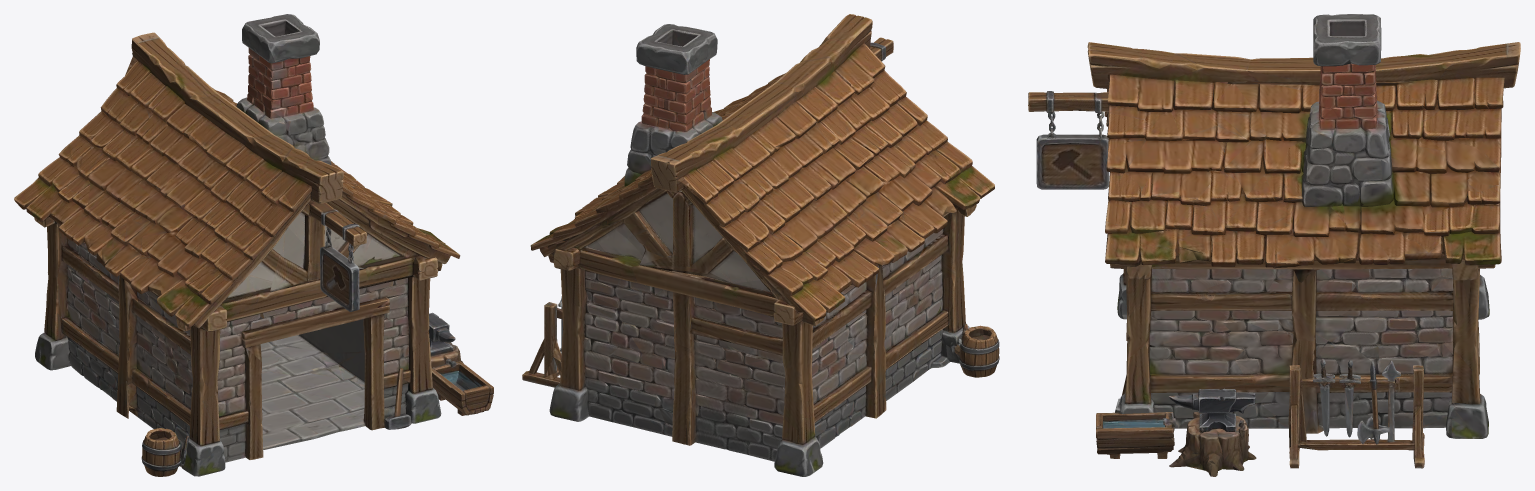
File: bld_smithy.glb
The picture shows the model from 3 angles, left to right: view 1: azimuth 30°, elevation 25°; view 2: azimuth 150°, elevation 25°; view 3: azimuth 270°, elevation 25°; orthographic projection. The views are drawn at different scales.
Parts seen in each view (by area): view 1: output_unwrapped; view 2: output_unwrapped; view 3: output_unwrapped.
Part boxes in pixels (x1,y1,x2,y2): output_unwrapped: (14,14,493,476); output_unwrapped: (522,14,999,476); output_unwrapped: (1028,14,1520,476).
Size of the model in its own units: 1.79 by 1.61 by 1.9.
Materials: 1 (1 with a texture image).
